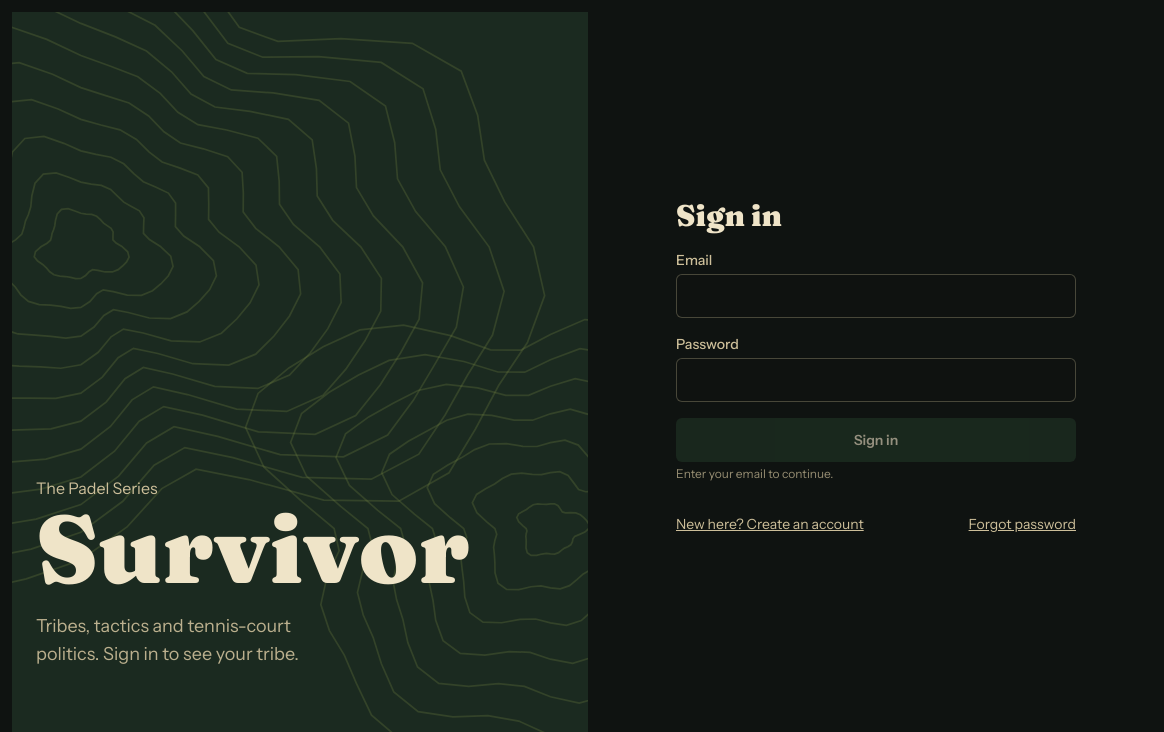
sign-in flow › offers to resend the confirmation email when the account isn't confirmed
The image size is (1164, 732).
In the field labelled "Email": (876, 296) [676,274,1076,318], type "a@b.co"
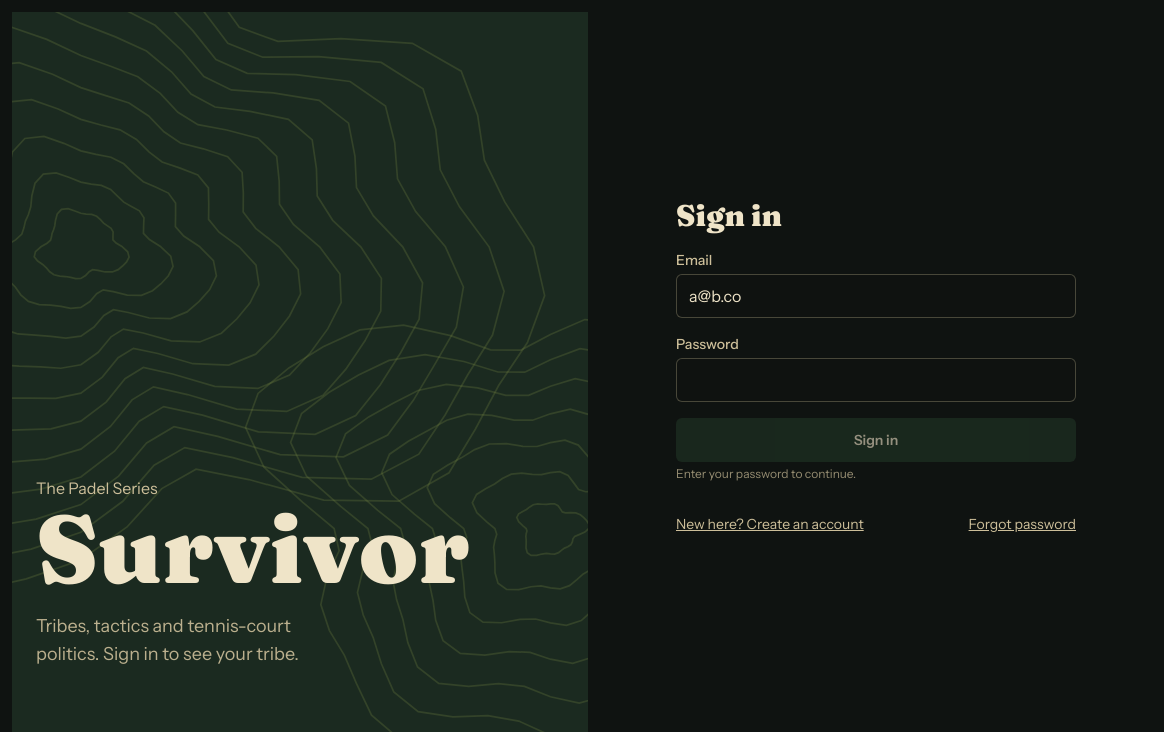
In the password field labelled "Password": (876, 380) [676,358,1076,402], type "password123"
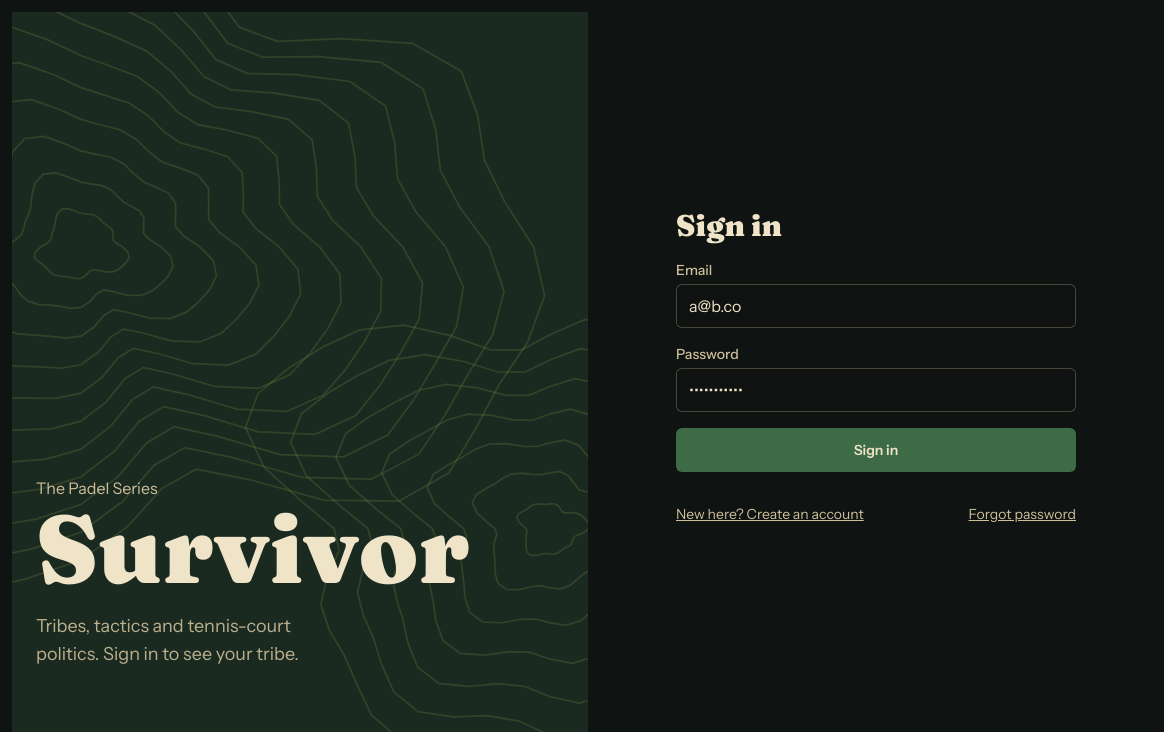
Click the button "Sign in": (876, 450) [676,428,1076,472]
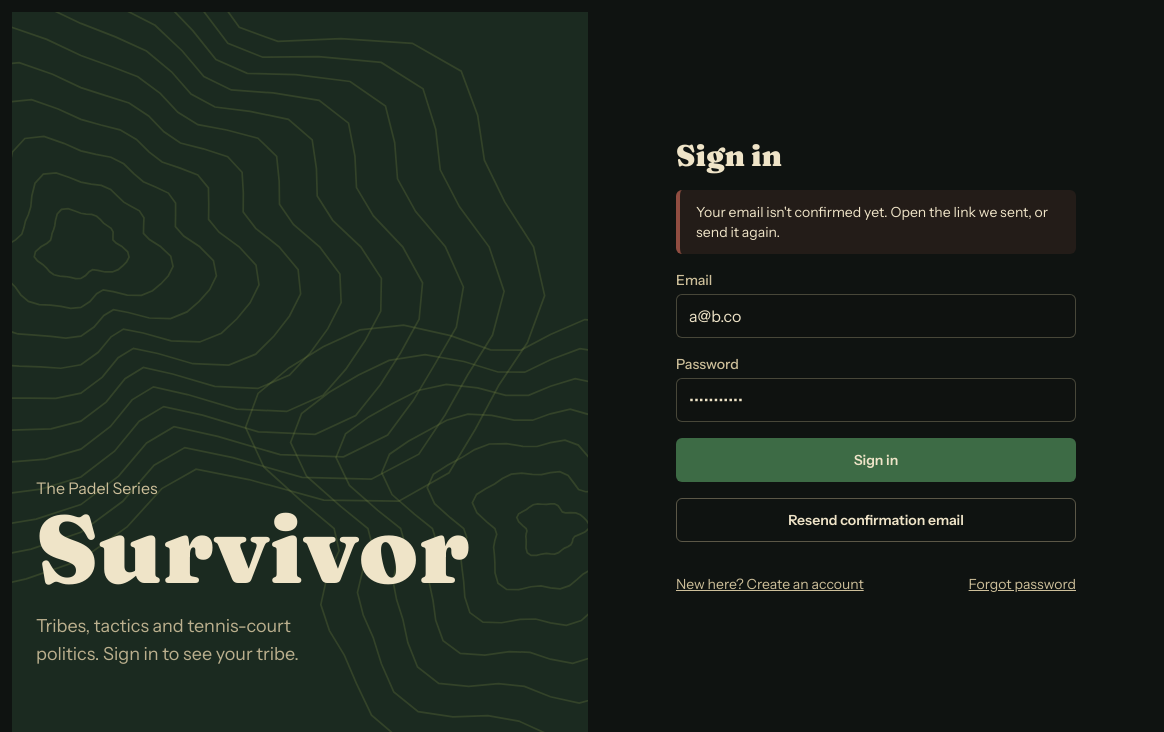
Click the button "Resend confirmation email": (876, 520) [676,498,1076,542]
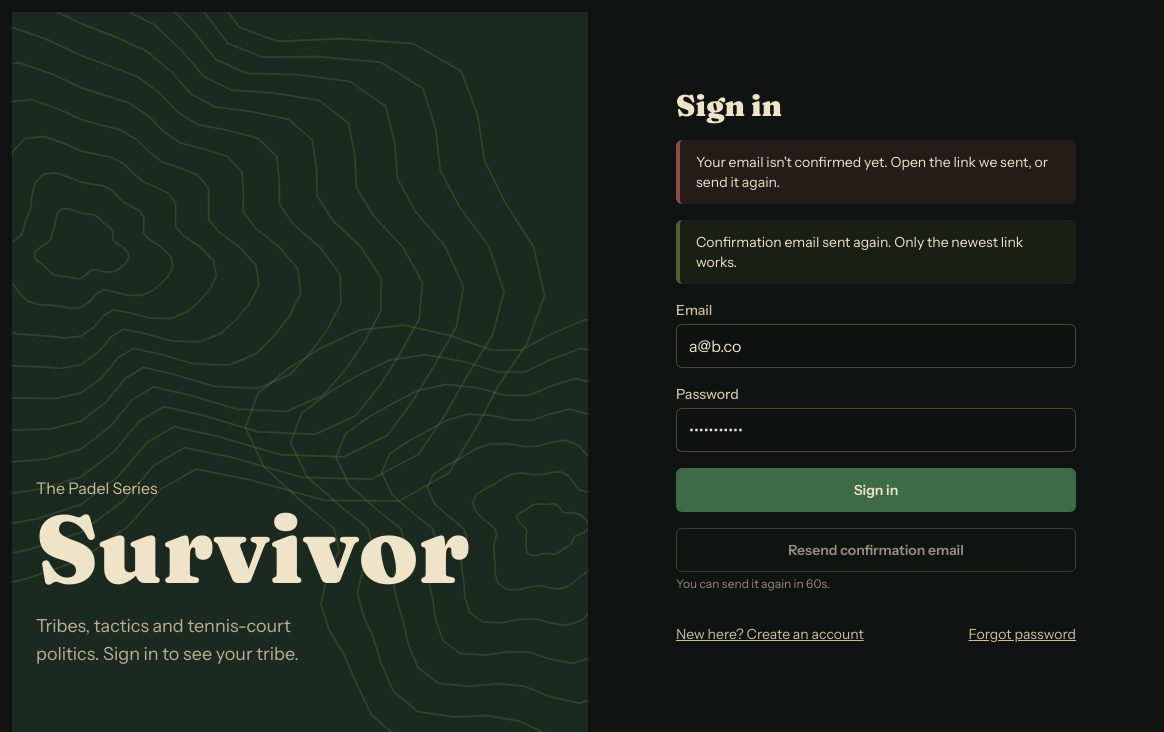
Expected: the text "Confirmation email sent again. Only the newest link works." is shown, [696,232,1060,272]
